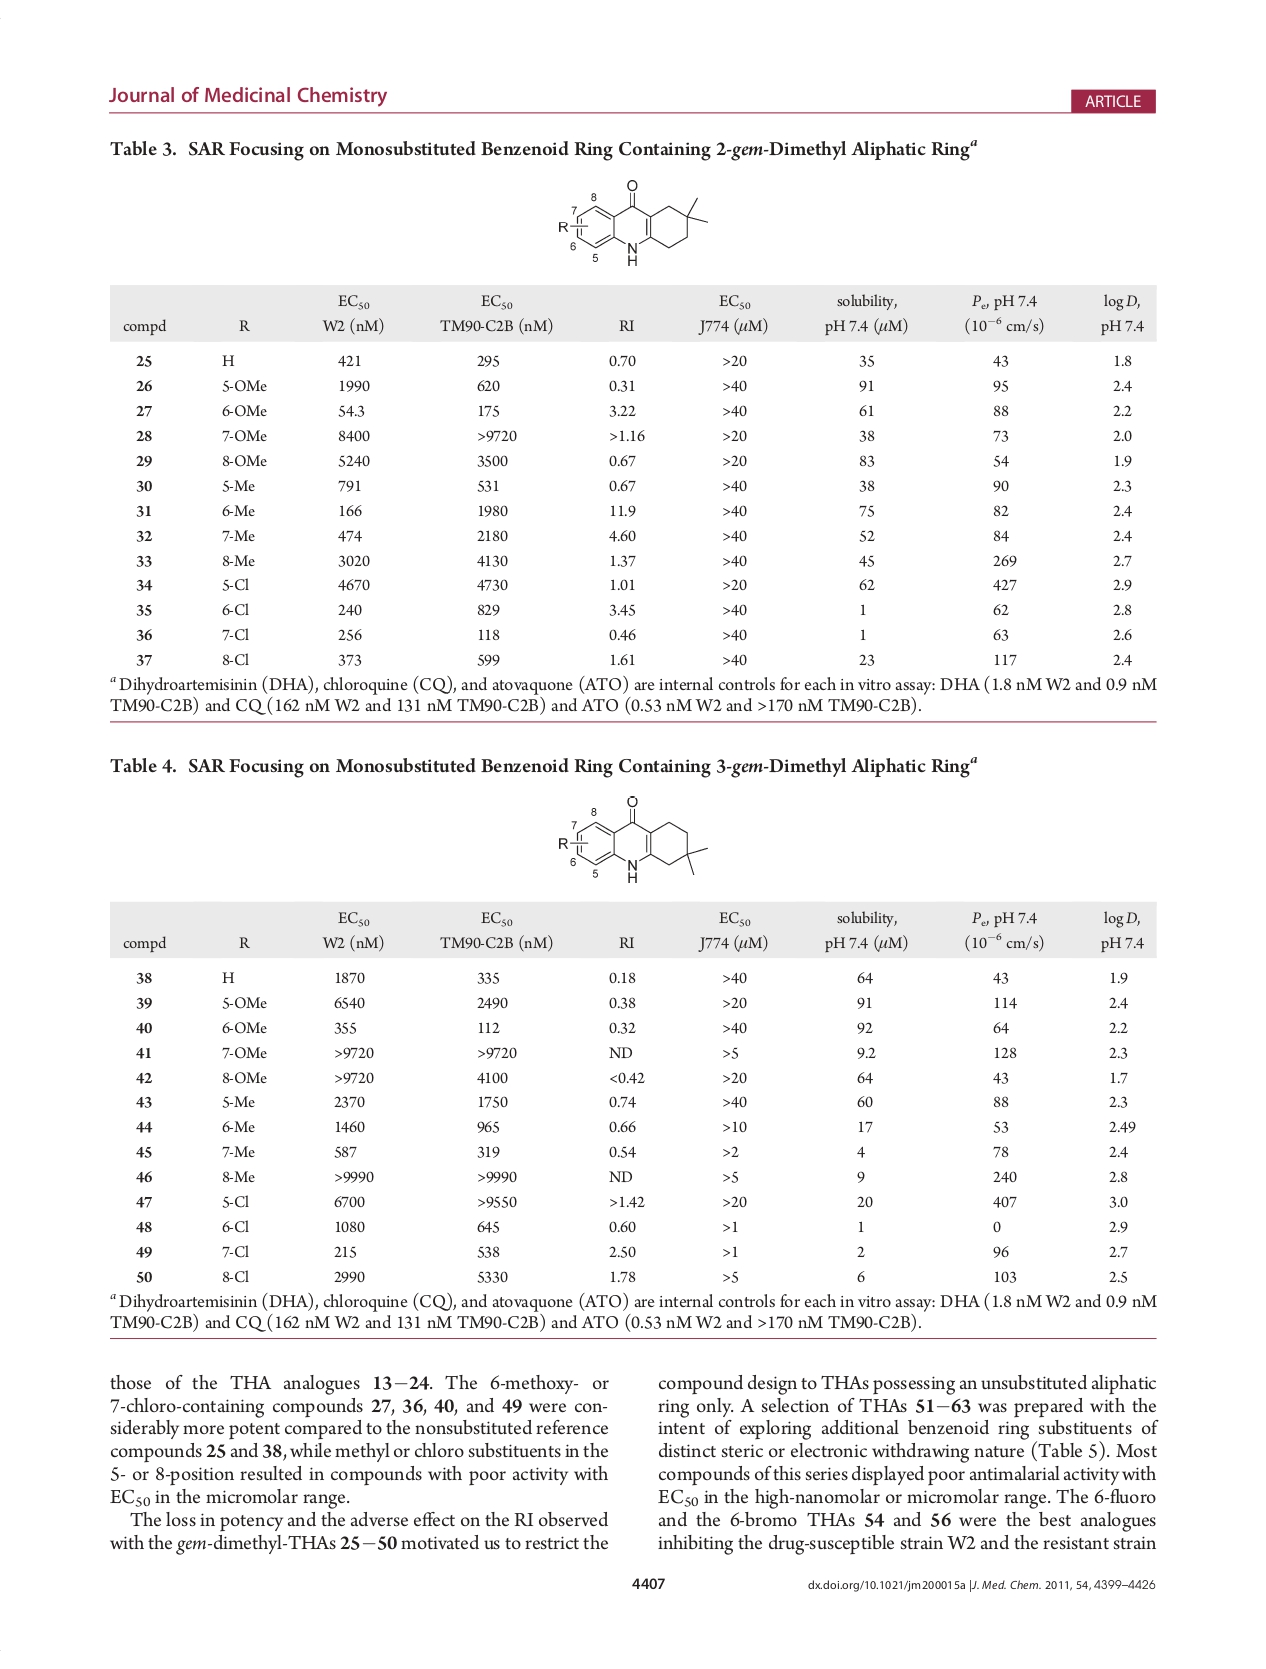exist_molecular: (556, 793, 710, 887), (556, 176, 711, 269)
